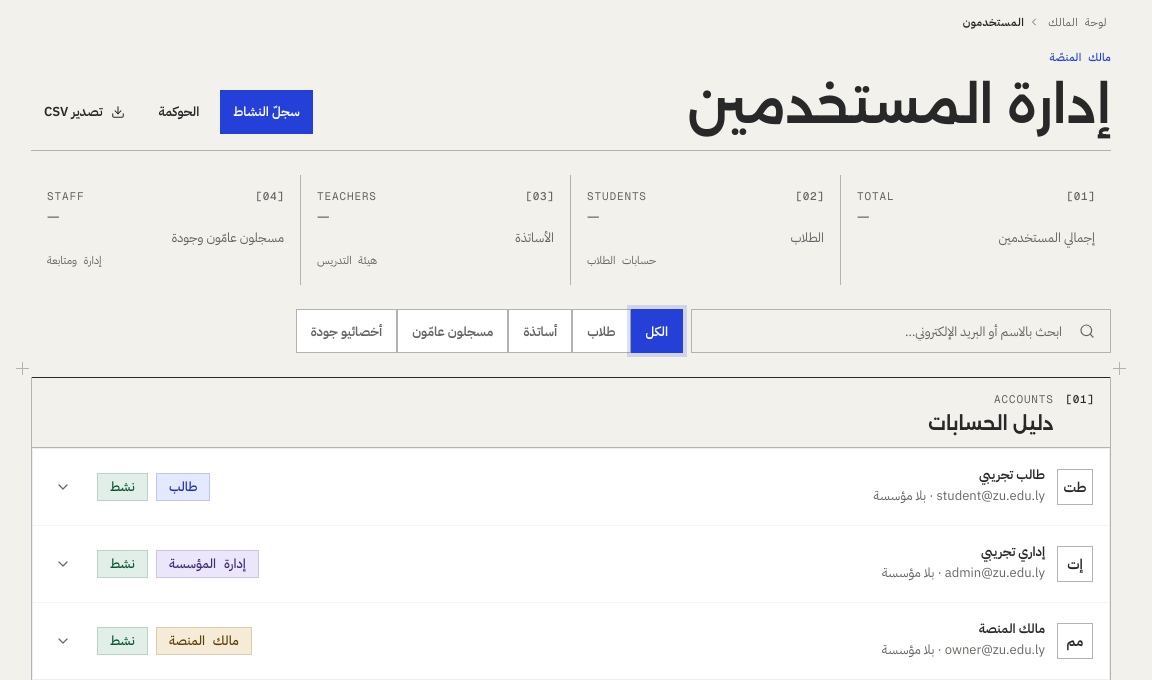
Test: OwnerUsersPage — role picker (r154e) › renders the ADMIN row with the same four roles (no silent demote-to-STUDENT)
Step 1. Click the button named "إجراءات إداري تجريبي" → (63, 564), box [41,542,85,586]
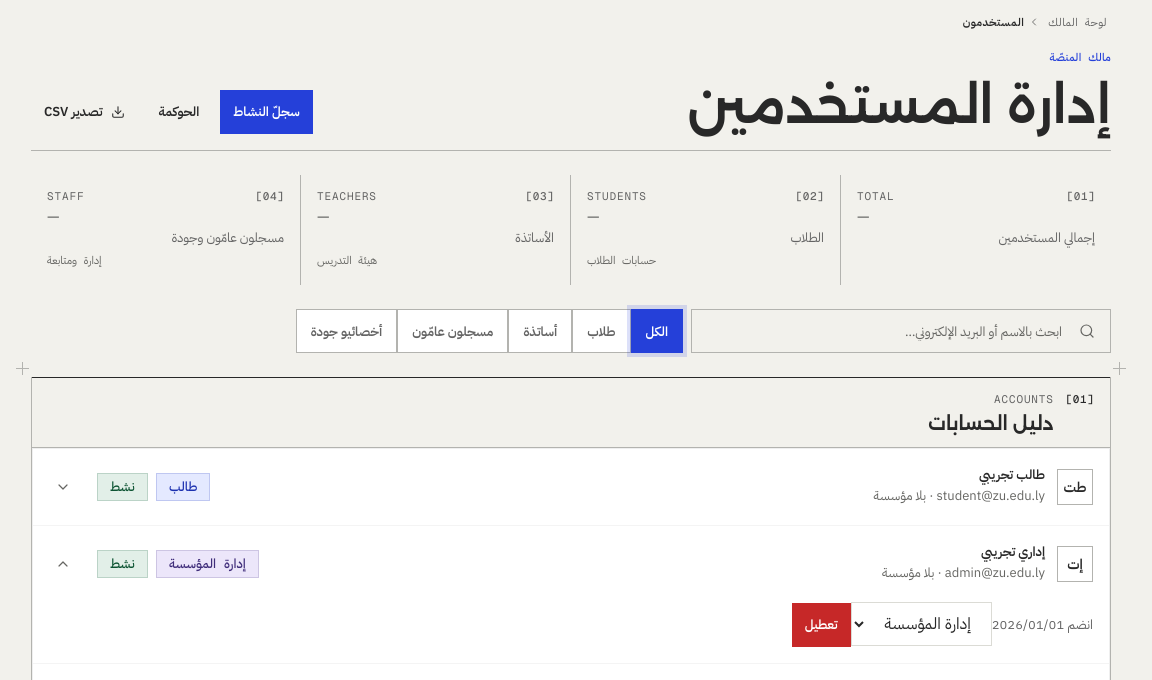
expect the dropdown named "دور إداري تجريبي" shows "إدارة المؤسسة": met, box [851,602,992,646]
